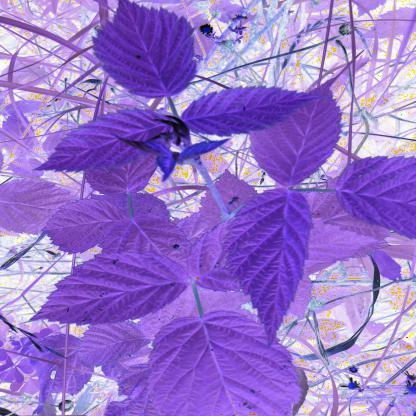Raspberry leaf: (17, 244, 198, 335), (214, 184, 312, 345), (146, 314, 292, 416), (242, 74, 349, 184), (30, 106, 186, 177), (96, 0, 198, 98), (177, 76, 321, 138), (336, 155, 416, 240)
